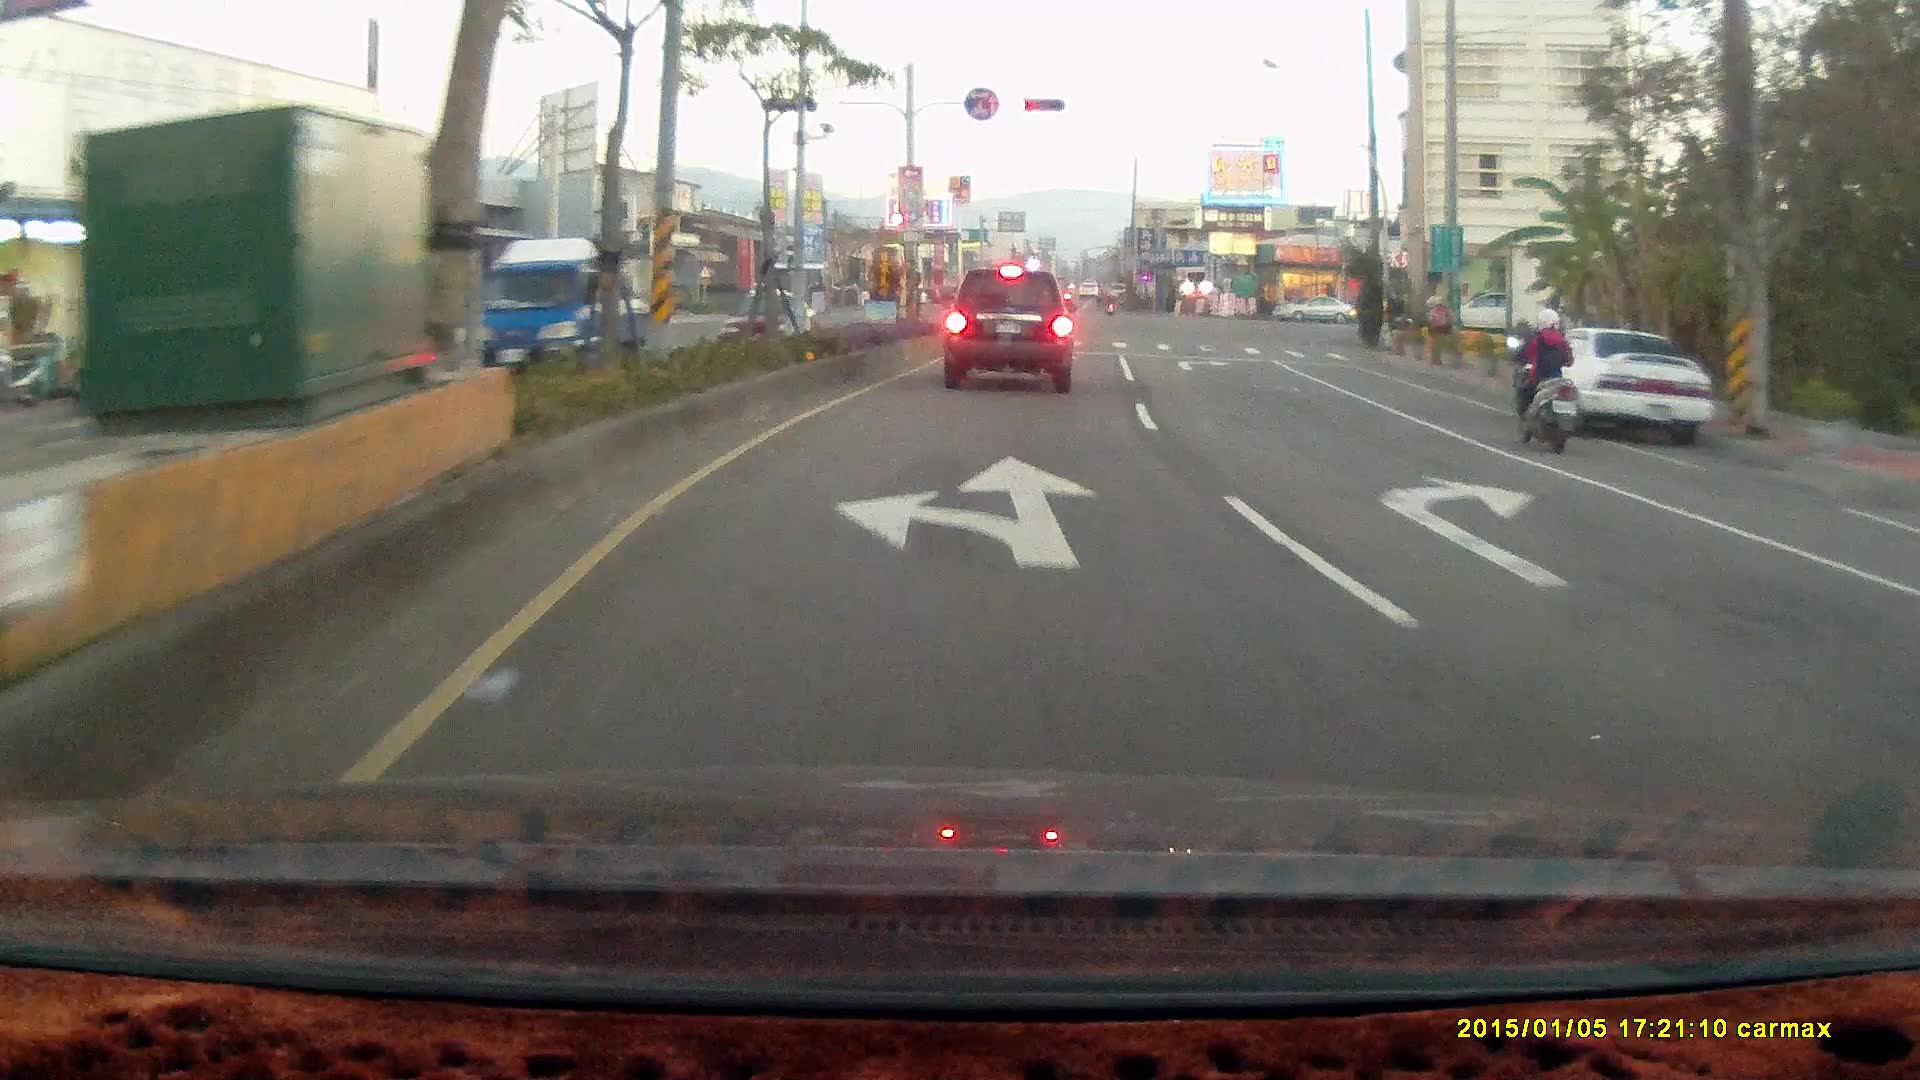rider: (1501, 306, 1581, 453)
vehicle: (455, 235, 654, 378), (1522, 327, 1714, 446), (1527, 329, 1723, 441), (941, 267, 1076, 393), (1896, 493, 1920, 836), (1883, 528, 1920, 690), (1433, 288, 1534, 336), (1271, 292, 1355, 324)
